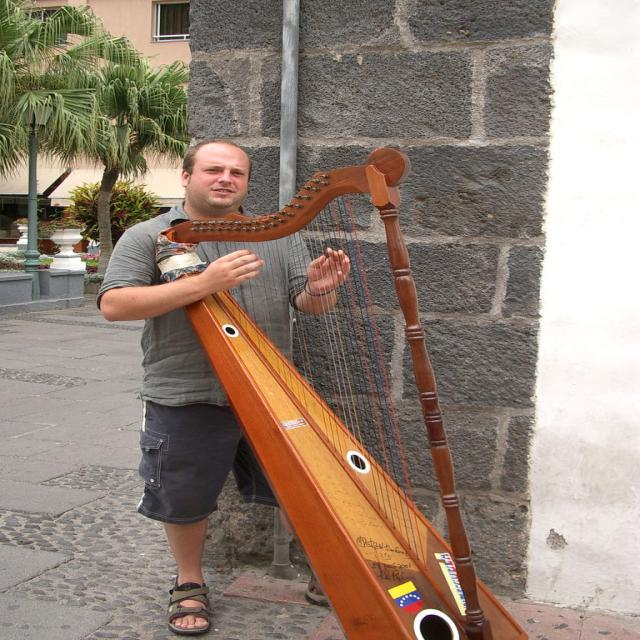harp: (155, 145, 534, 640)
